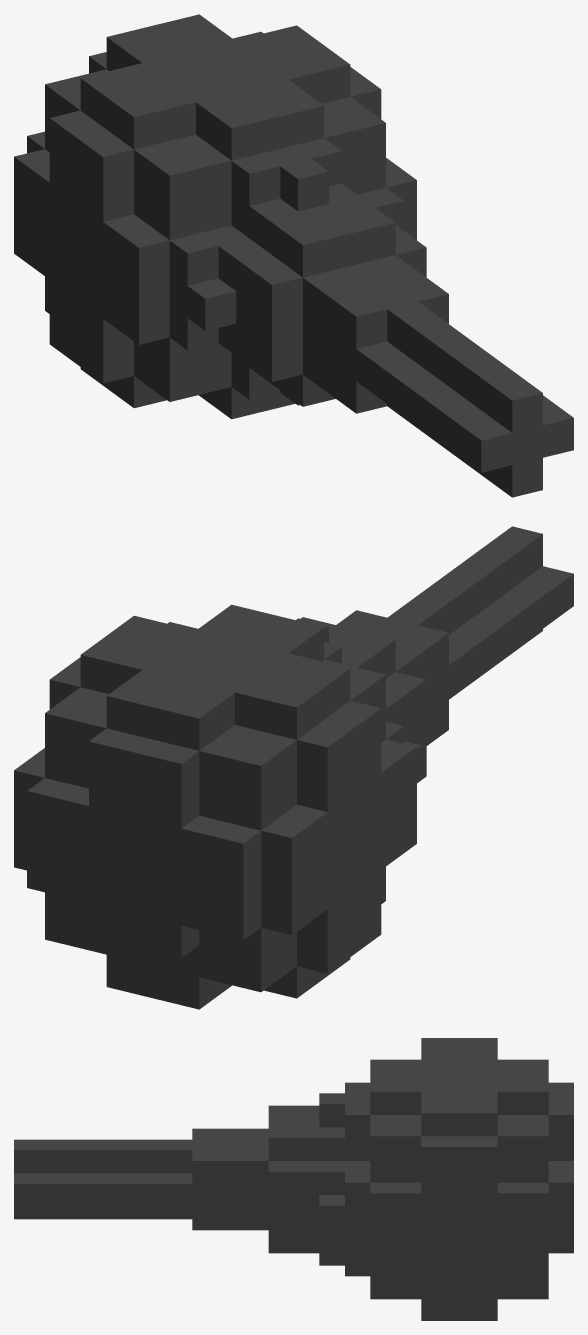
File: LizardMan BOSS tail 5.obj
The picture shows the model from 3 angles, top to bottom: view 1: azimuth 30°, elevation 25°; view 2: azimuth 150°, elevation 25°; view 3: azimuth 270°, elevation 25°; orthographic projection. The views are drawn at different scales.
Bounding box in the file's own units: 9 × 9 × 22.
1 material, 1 textured.
